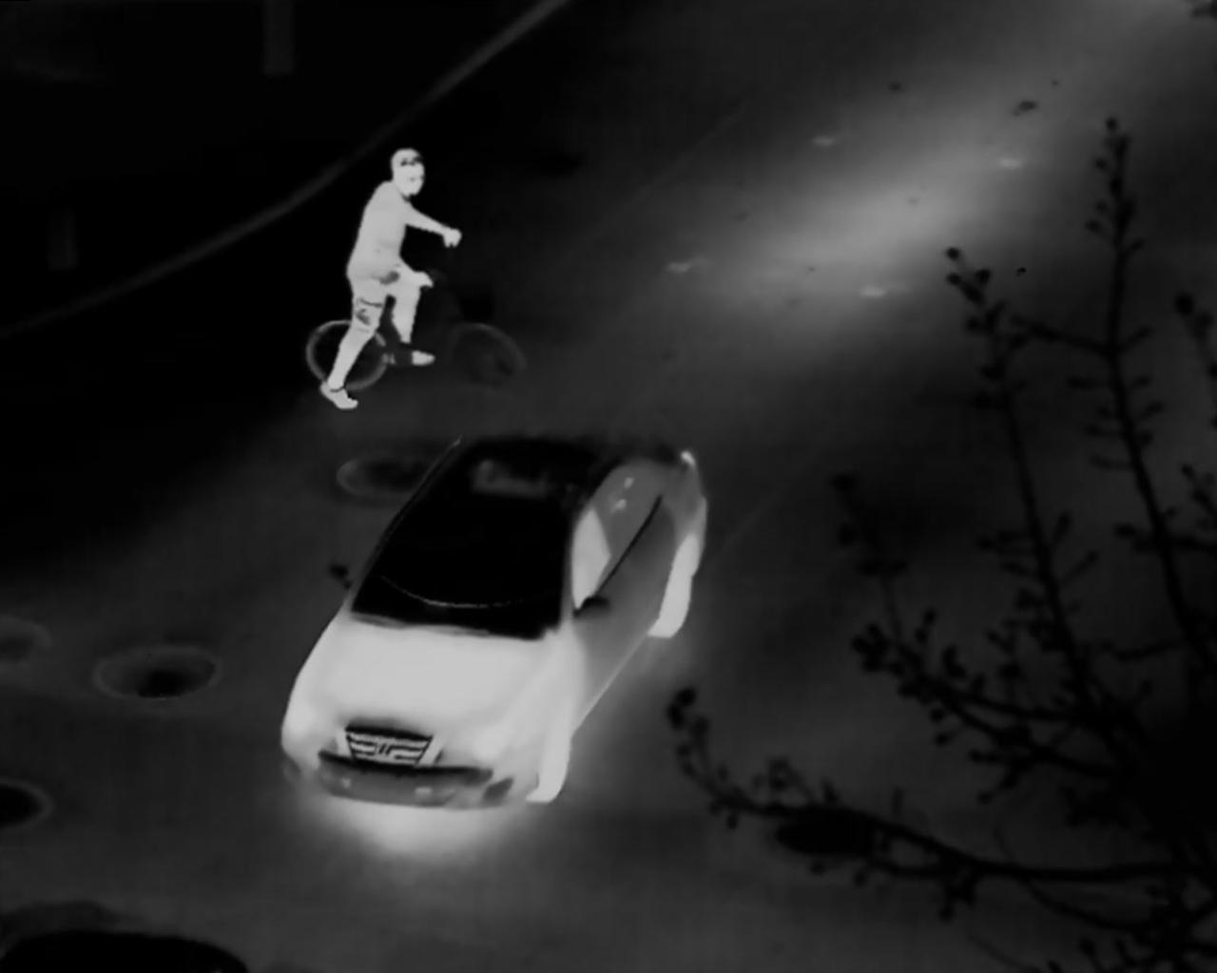person: (319, 144, 462, 412)
